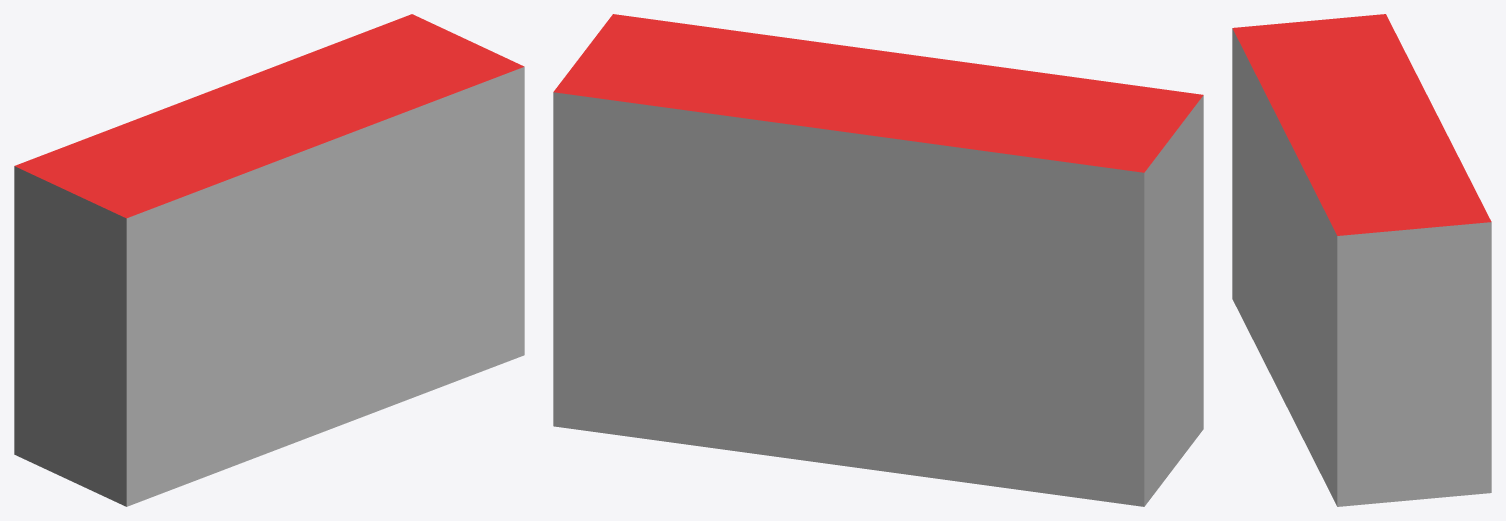
The model's file is DEBE3D04YY50002cOH.dae.
The picture shows the model from 3 angles, left to right: view 1: azimuth 30°, elevation 25°; view 2: azimuth 150°, elevation 25°; view 3: azimuth 270°, elevation 25°; orthographic projection. The views are drawn at different scales.
Size of the model in its own units: 8.04 by 3.97 by 4.57.
